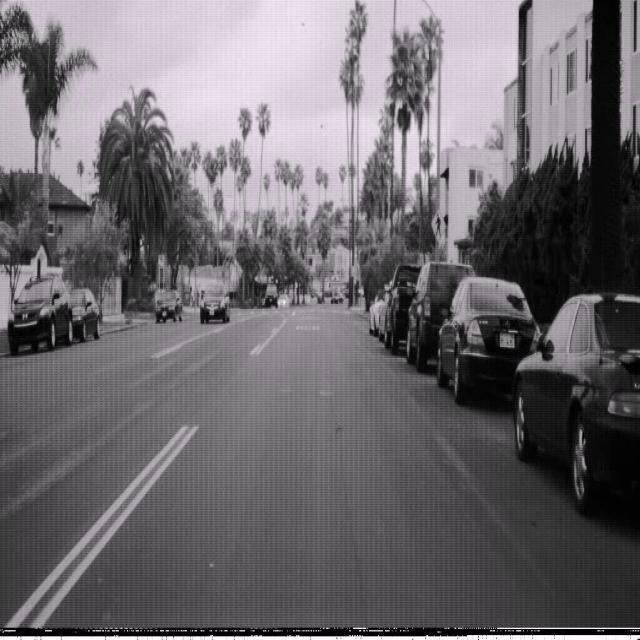pedestrianCrossing: (430, 205, 446, 243)
